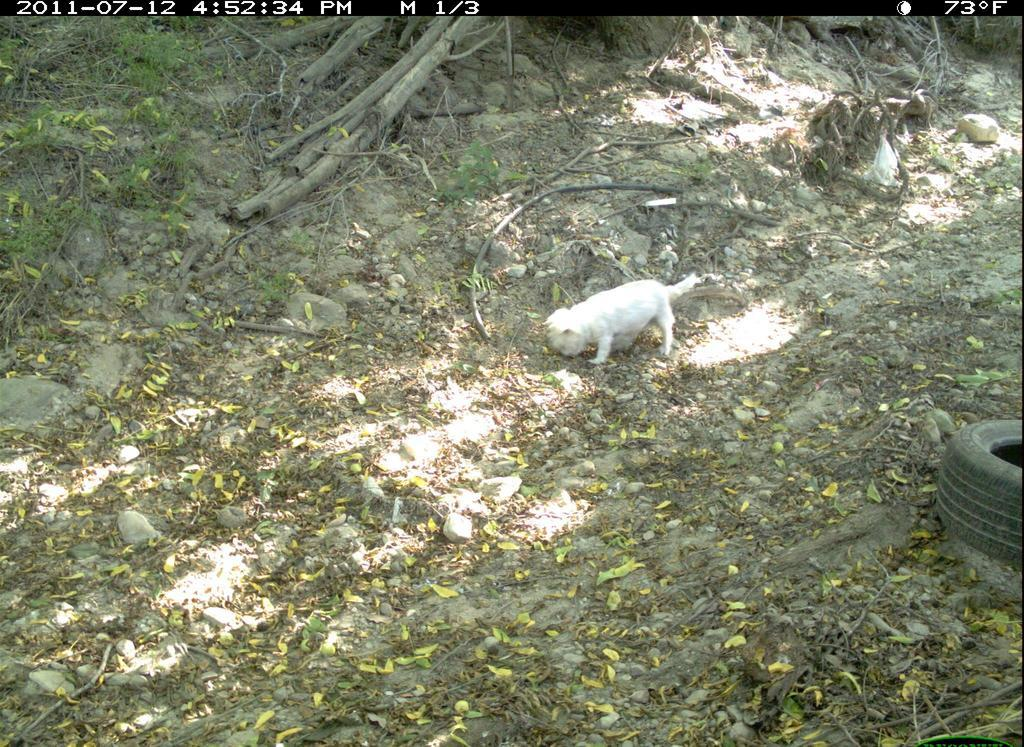dog: (528, 268, 703, 383)
